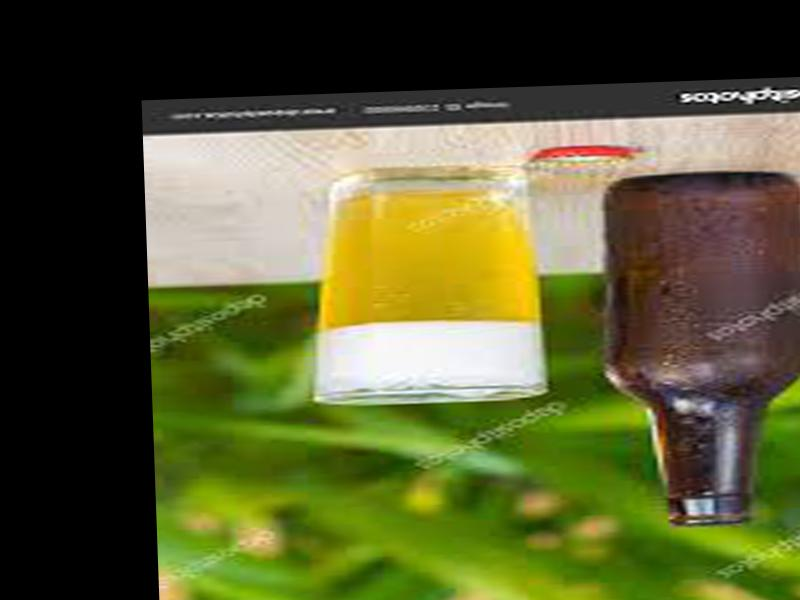Beer: (602, 167, 800, 527)
